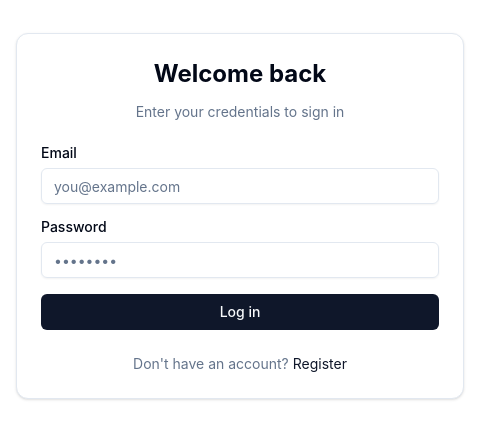
Test: Login page › displays error message on invalid credentials
Type "wrong@example.com" into the field labelled "Email".
click(240, 186); type("wrong@example.com")  # box [41,168,439,204]
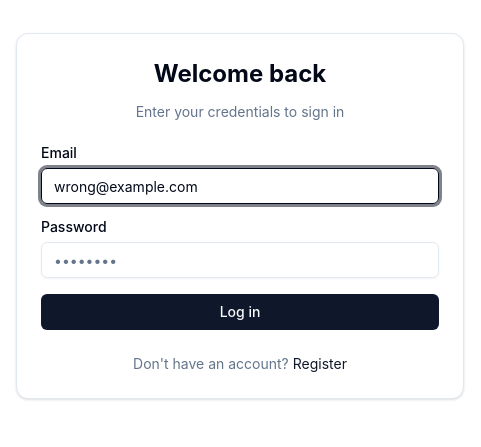
Type "wrongpass" into the password field labelled "Password".
click(240, 260); type("wrongpass")  # box [41,242,439,278]
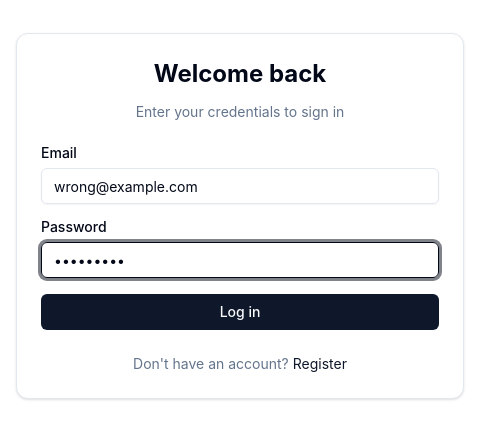
Click the button "Log in".
click(240, 312)  # box [41,294,439,330]
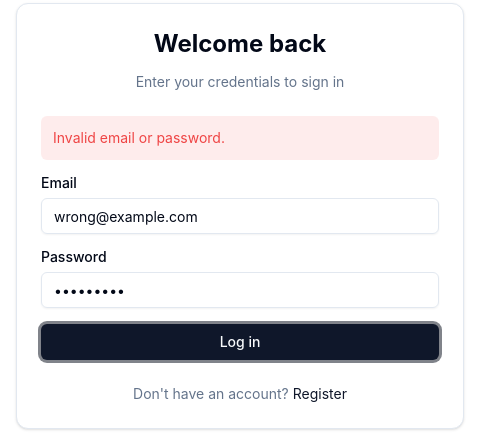
Result: the text "Invalid email or password." is shown at [41,116,439,160]
